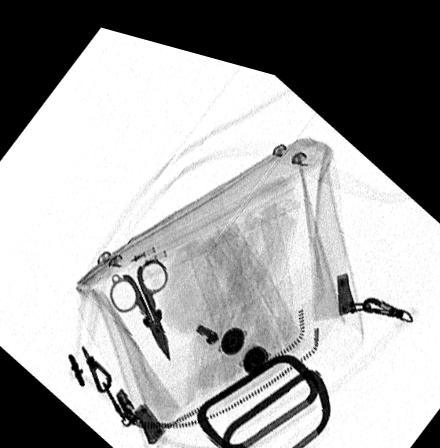Scissors: (109, 249, 171, 351)
